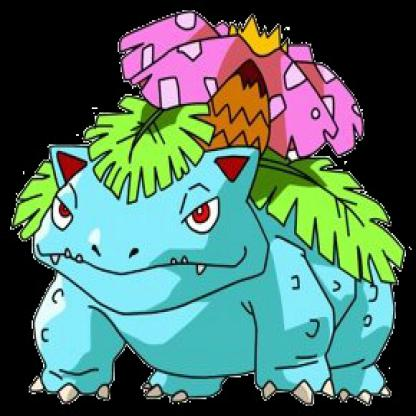Venusaur: (13, 1, 416, 416)
